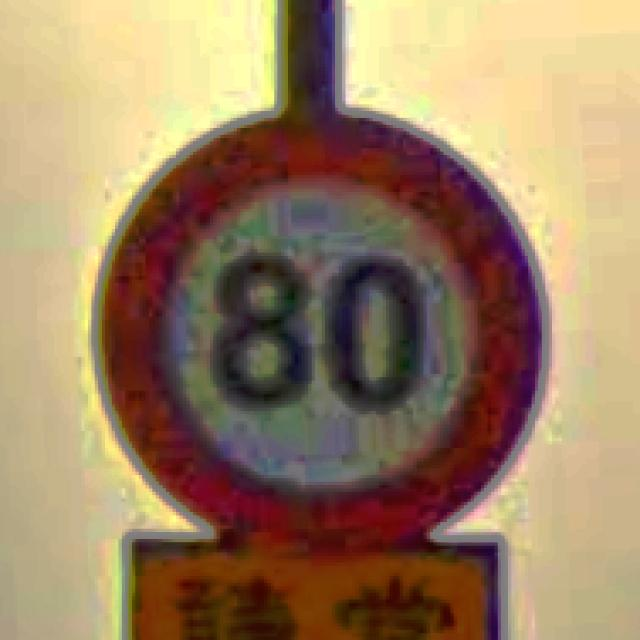max80: (88, 104, 549, 549)
